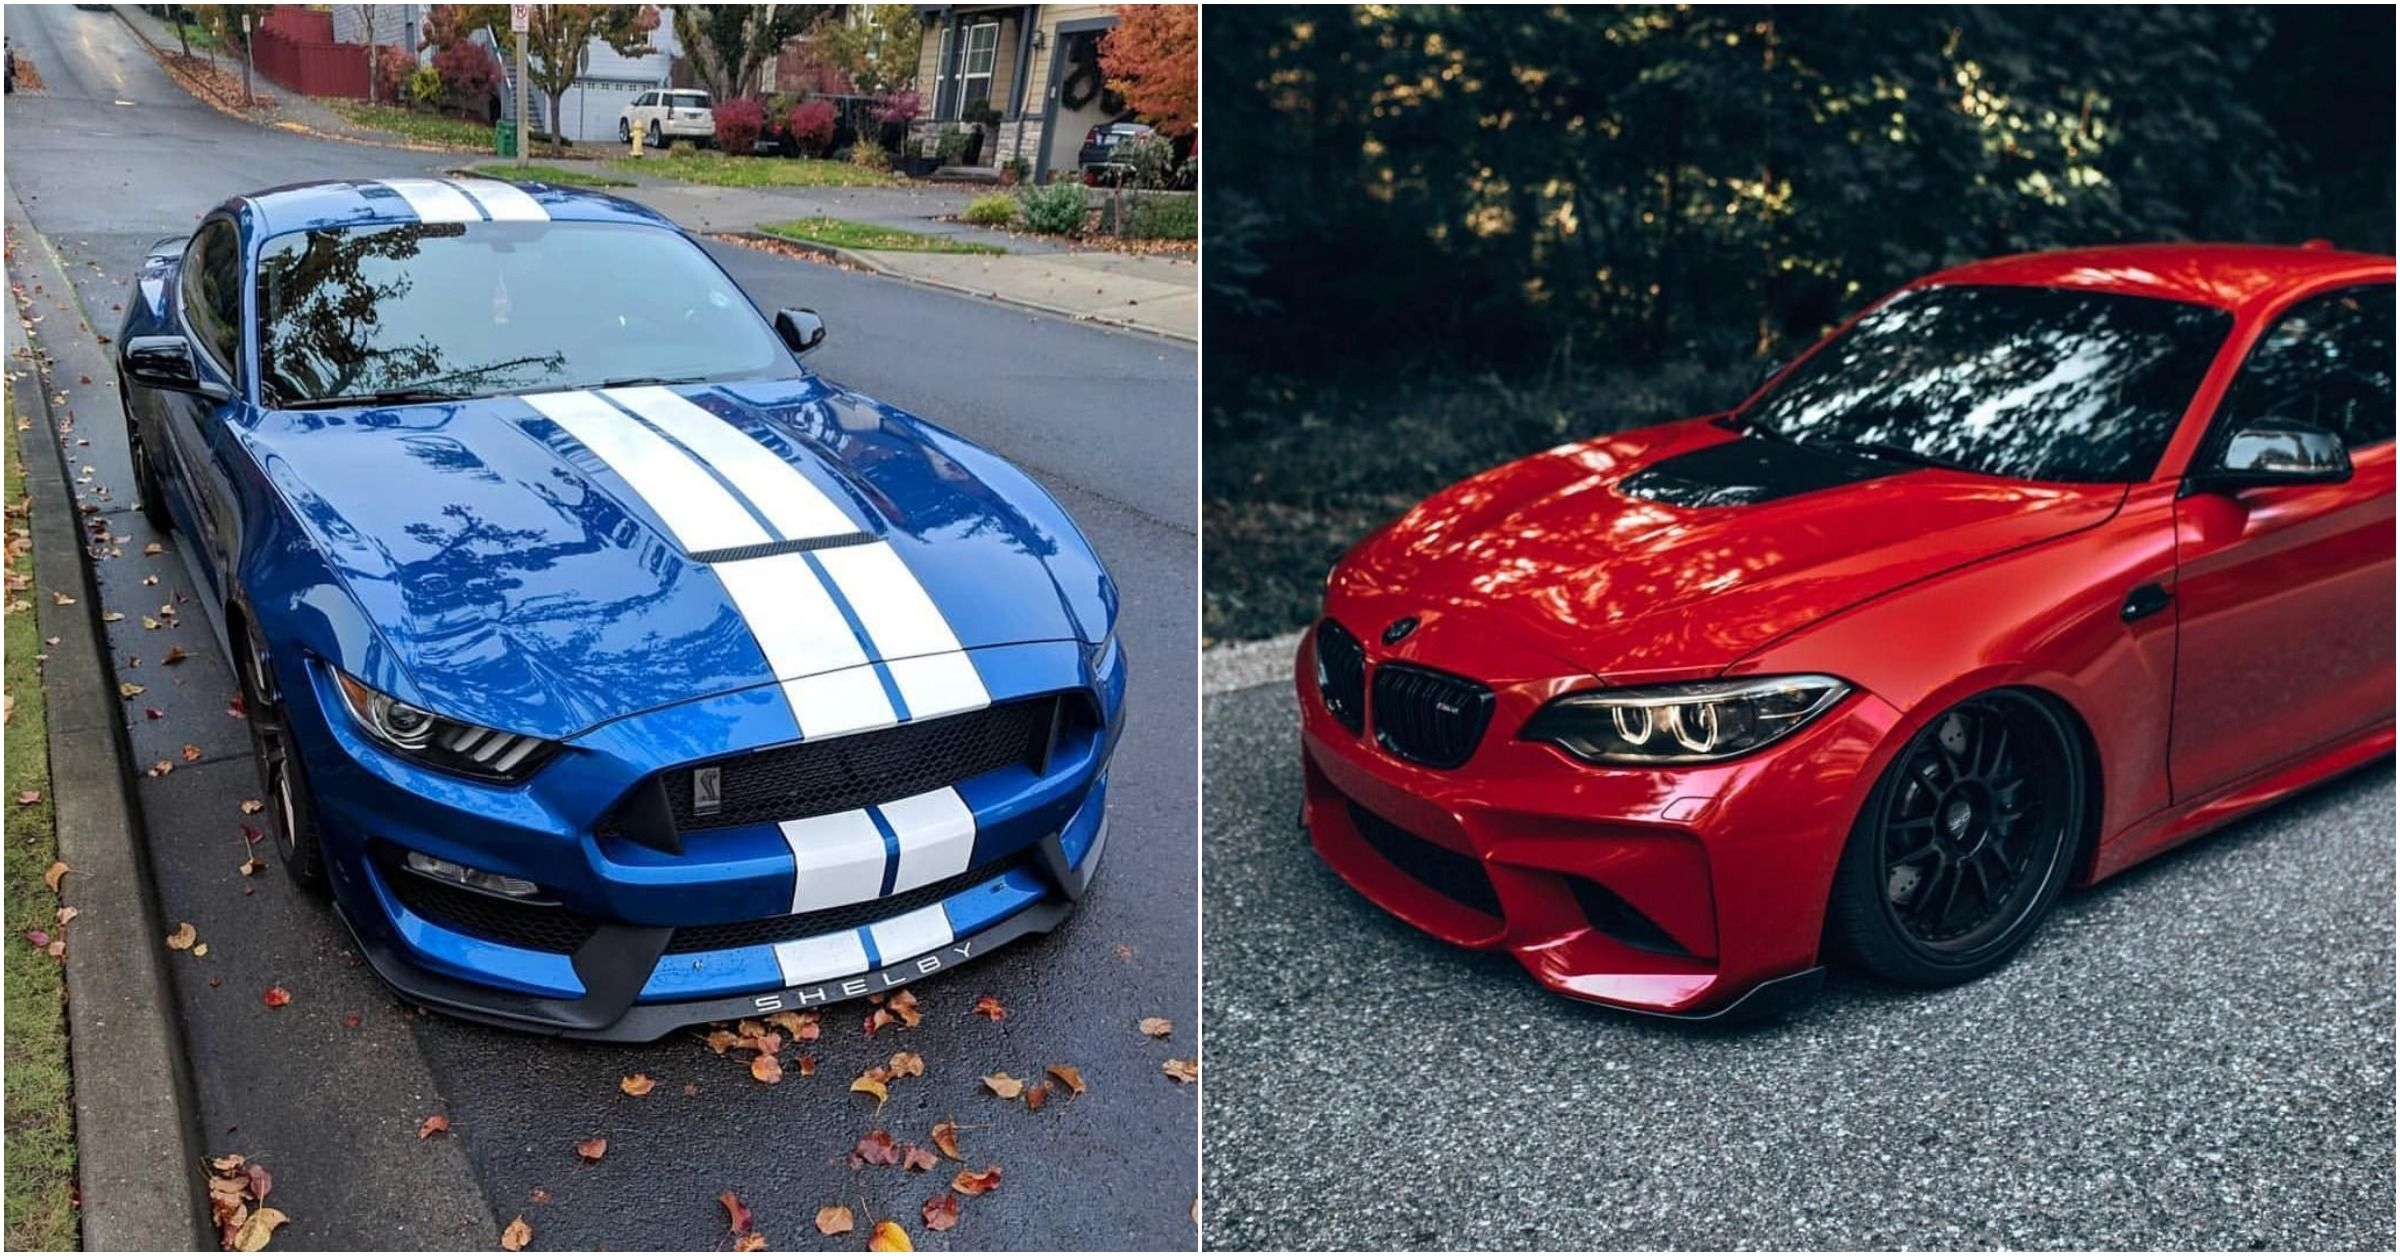headlight: (319, 662, 546, 789), (1548, 672, 1838, 757)
wheel: (1835, 653, 2157, 992), (249, 672, 329, 910)
